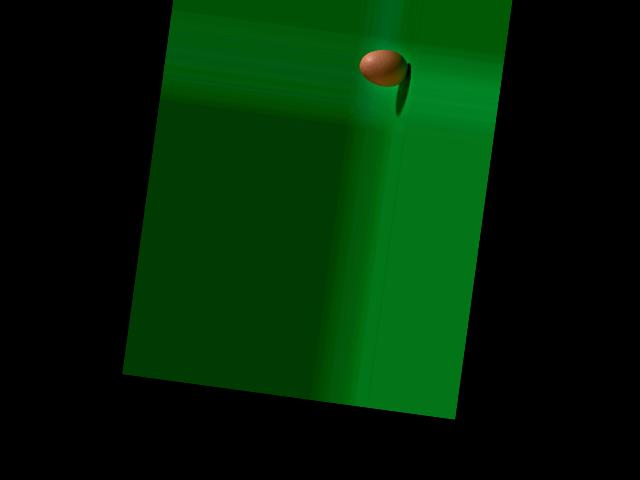egg: (357, 46, 410, 89)
